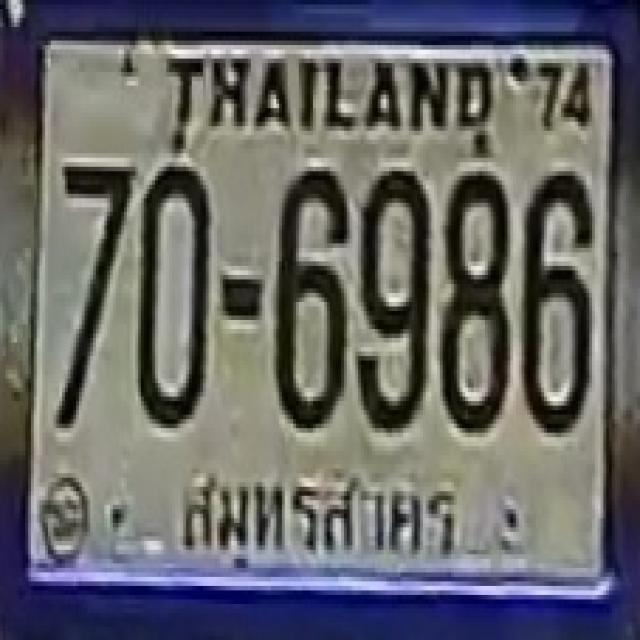0: (135, 162, 209, 424)
6: (272, 165, 345, 422), (520, 167, 591, 428)
7: (54, 162, 132, 424)
8: (440, 167, 507, 428)
9: (355, 167, 429, 428)
SKN: (176, 451, 481, 575)
